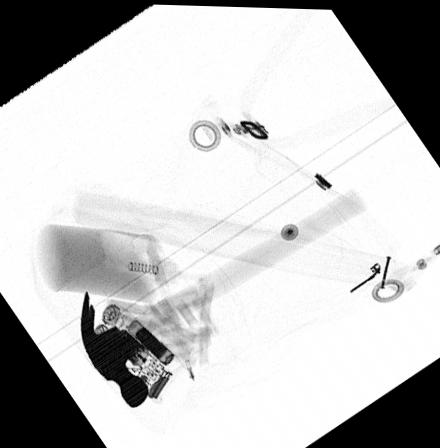Hammer: (78, 185, 364, 407)
